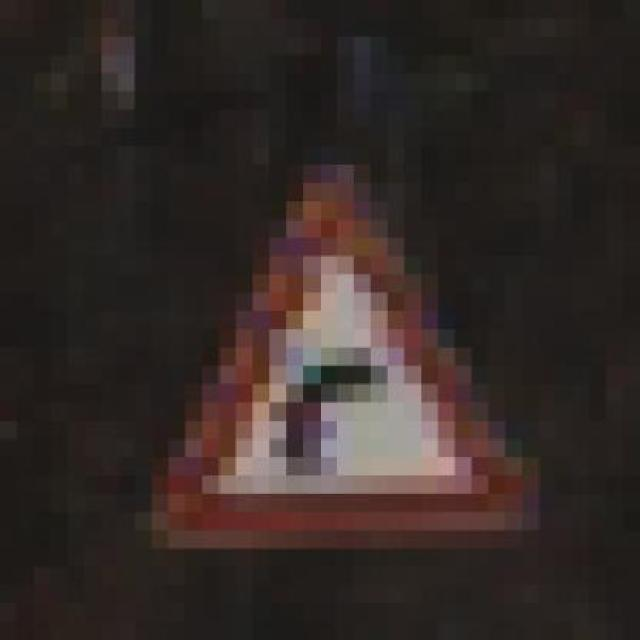Dangerous Rright Curve Ahead: (101, 146, 573, 549)
